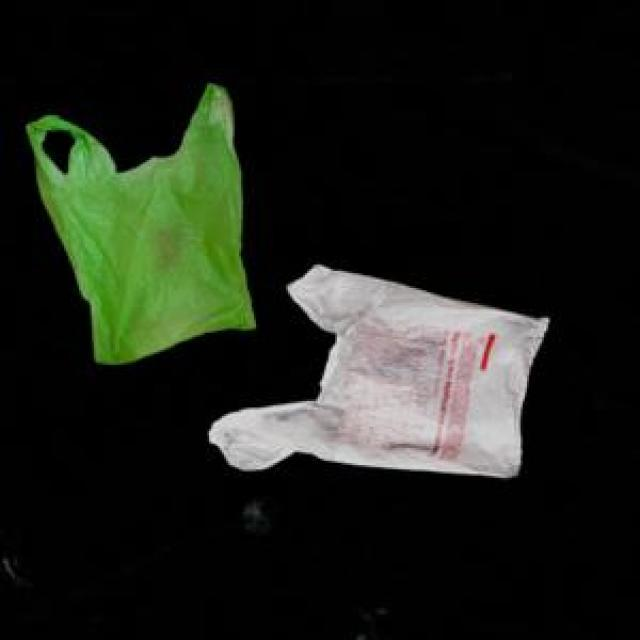waste: (209, 265, 549, 477), (26, 86, 255, 364)
